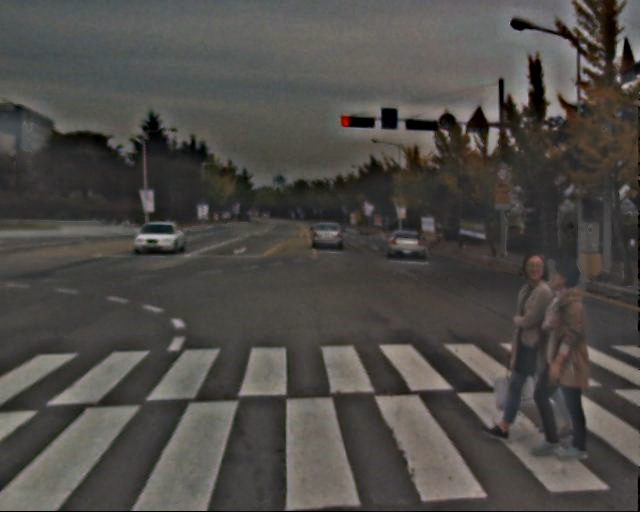person: (531, 253, 610, 461), (502, 242, 573, 448)
